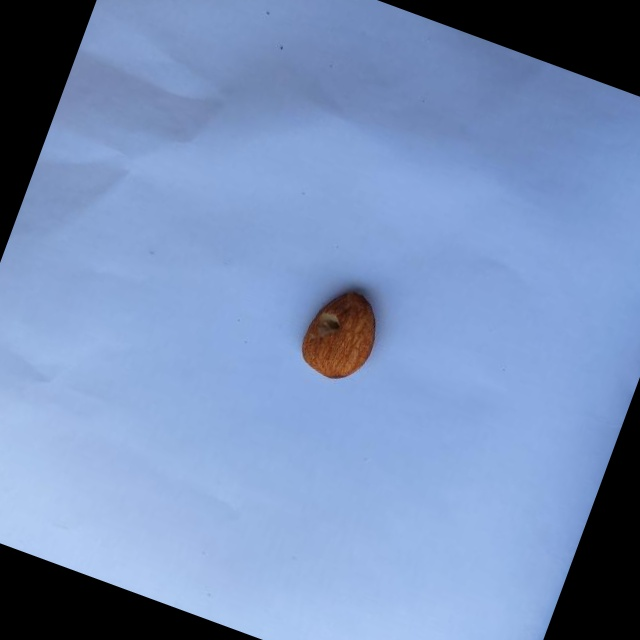grade3: (288, 275, 392, 393)
